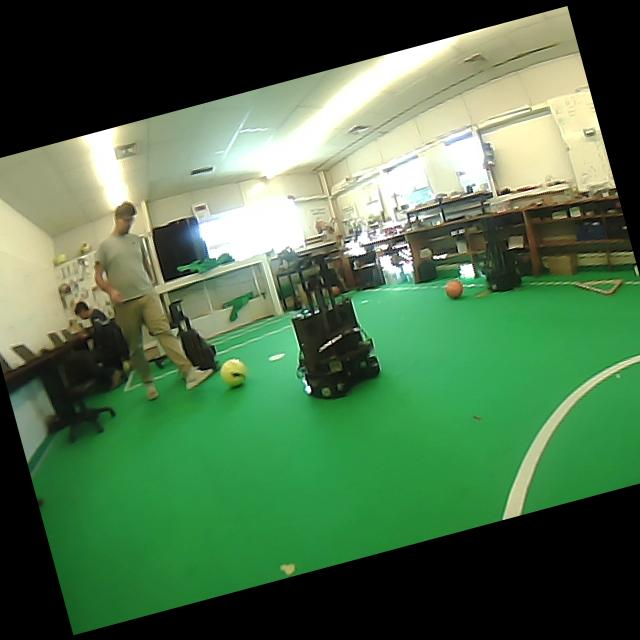ball: (219, 358, 247, 387), (444, 279, 462, 298), (53, 253, 68, 265), (79, 243, 90, 252), (331, 286, 340, 294)
goal: (260, 253, 283, 314)
robot: (291, 256, 380, 398), (171, 300, 217, 370), (483, 219, 521, 291)
